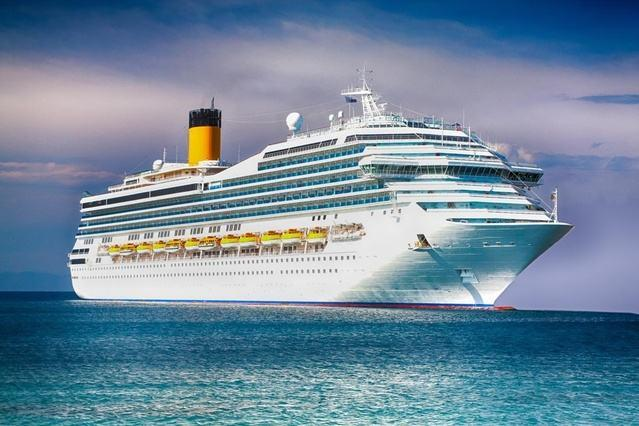youlun: (67, 82, 576, 303)
